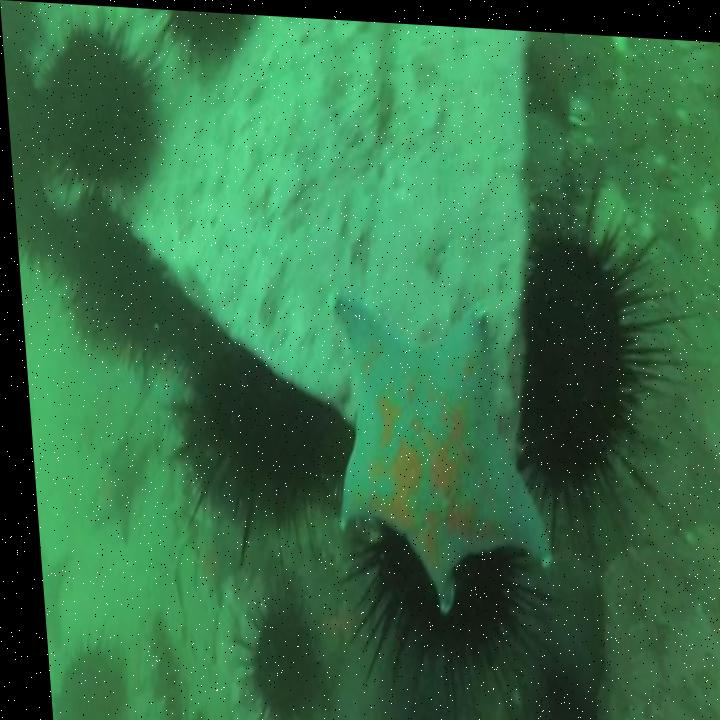echinus: (508, 226, 637, 469), (177, 343, 321, 510), (355, 529, 512, 662), (40, 30, 155, 181), (66, 226, 169, 357), (234, 612, 307, 718), (3, 55, 48, 180), (48, 644, 114, 720), (521, 663, 592, 720), (15, 190, 59, 256)
holothurian: (124, 617, 169, 720)
starfish: (310, 278, 549, 612), (521, 24, 585, 119), (85, 442, 144, 542), (186, 517, 228, 601)
